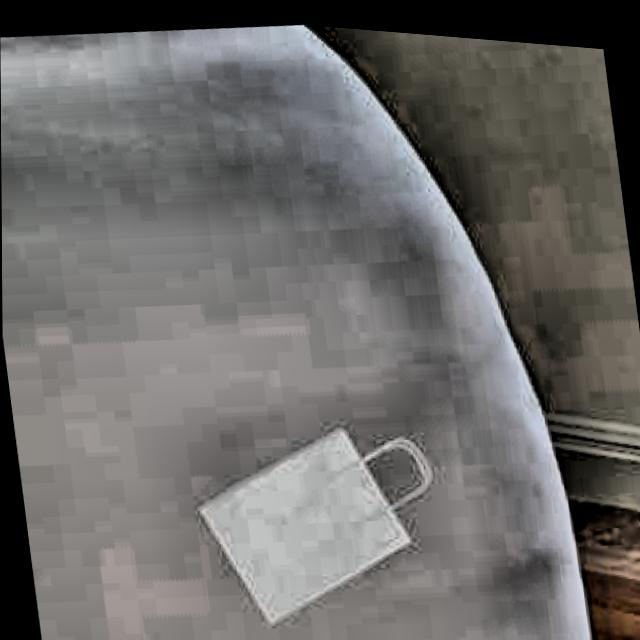Paper-bag: (158, 397, 455, 640)
